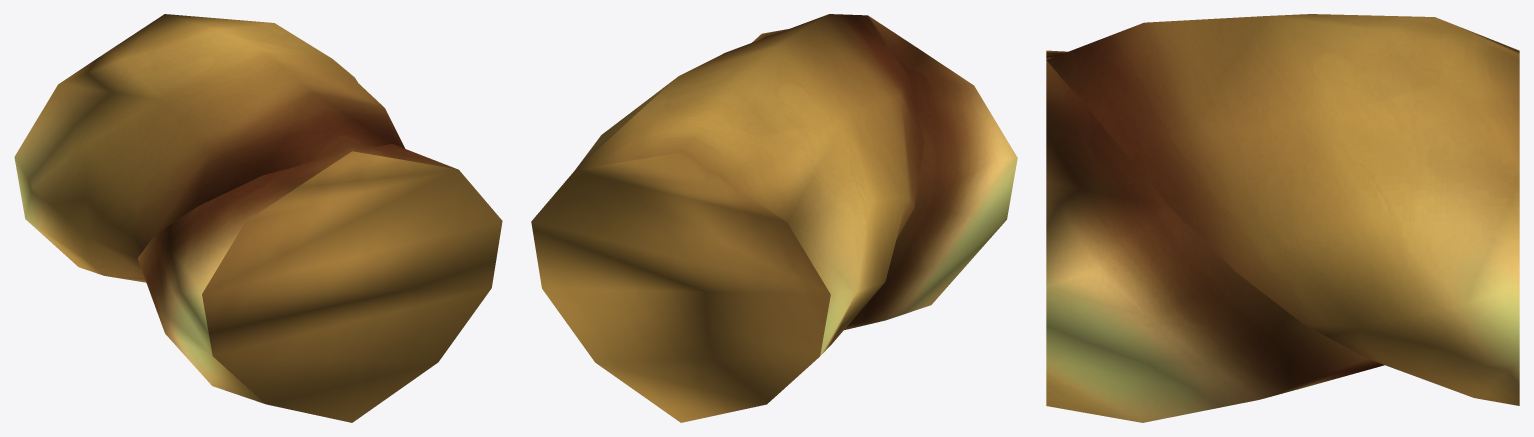
File: Rope_Segment.obj
3 renders of one model, left to right at view 1: azimuth 30°, elevation 25°; view 2: azimuth 150°, elevation 25°; view 3: azimuth 270°, elevation 25°, orthographic. The views are drawn at different scales.
Visible parts, largest first — view 1: Rope_Segment; view 2: Rope_Segment; view 3: Rope_Segment.
Boxes of the visible parts, box(x1,y1,x2,y2) form: Rope_Segment: box(14, 14, 502, 422); Rope_Segment: box(531, 14, 1017, 422); Rope_Segment: box(1046, 14, 1519, 422).
Bounding box in the file's own units: 0.2068 × 0.2008 × 0.2181.
Materials: 1 (1 with a texture image).
